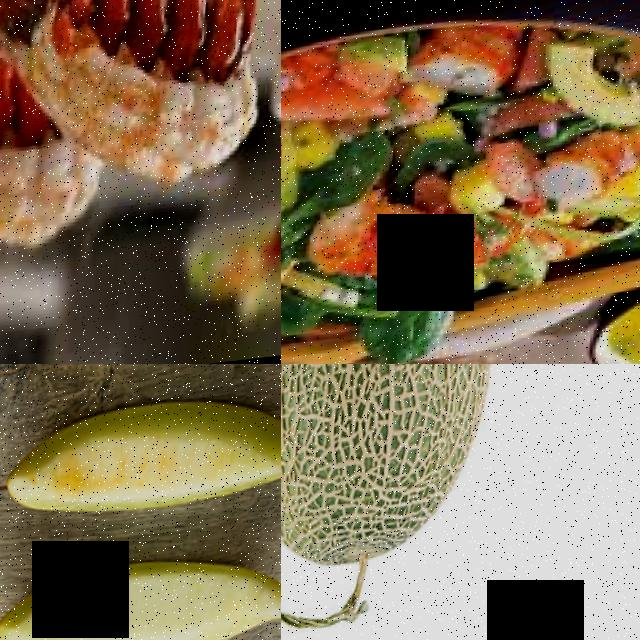lobster tails: (0, 0, 281, 128)
melon: (281, 364, 517, 604), (2, 391, 281, 536), (0, 549, 281, 640)
